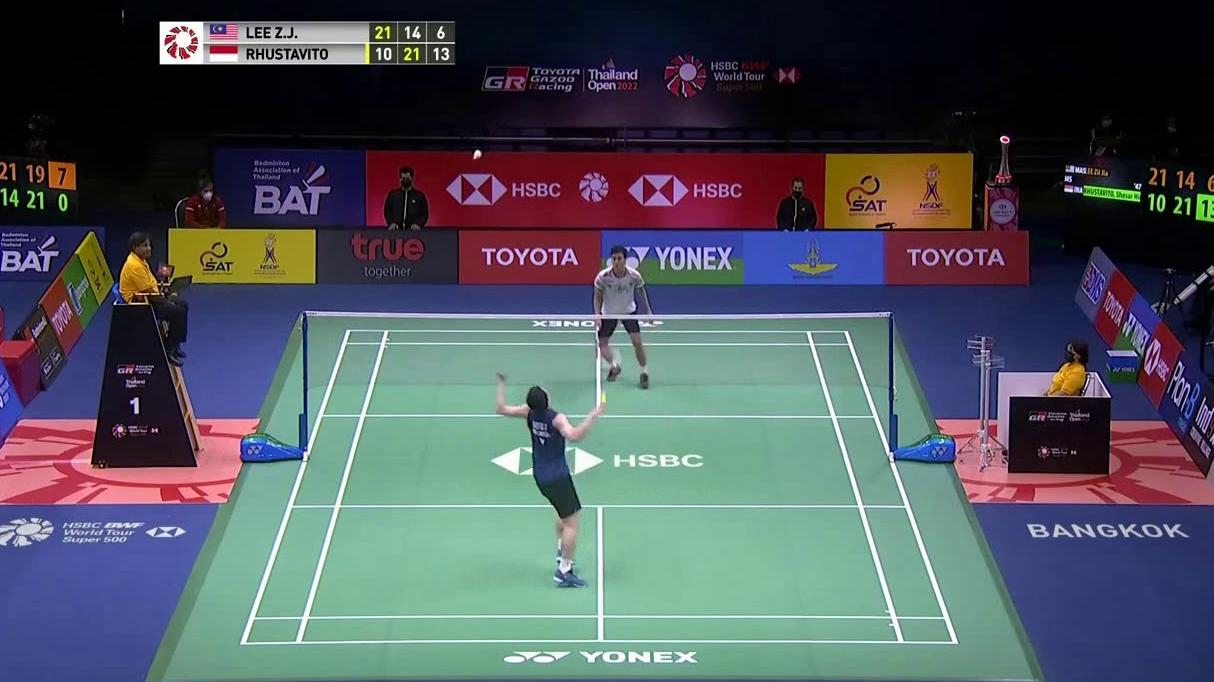racket: (598, 346, 621, 406), (593, 322, 602, 362)
shuttle: (471, 148, 483, 161)
